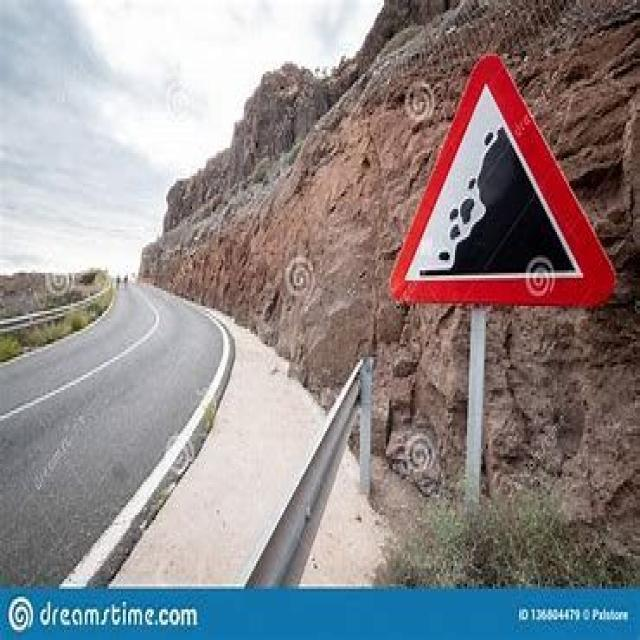falling rocks: (381, 47, 620, 319)
